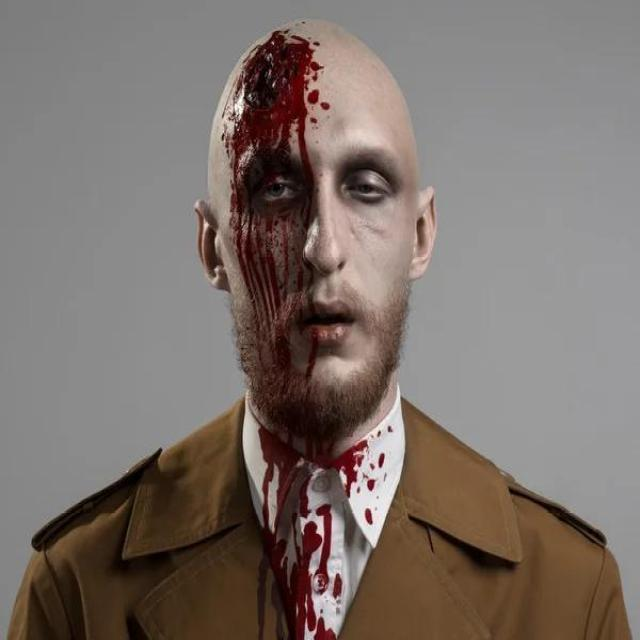flood: (225, 32, 330, 640)
